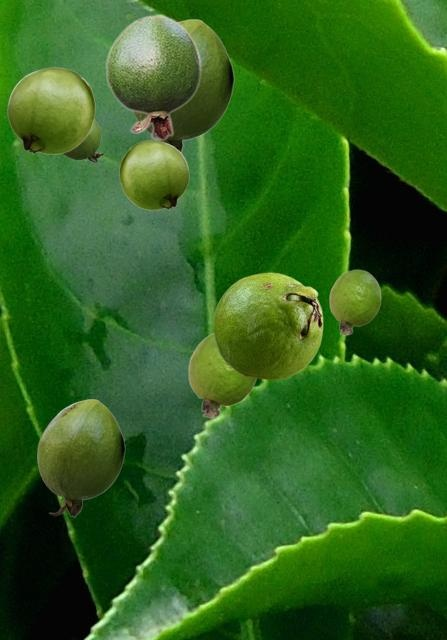guava: (132, 19, 233, 152), (105, 14, 201, 140), (213, 272, 322, 379), (37, 399, 124, 516), (7, 67, 94, 153), (188, 333, 257, 417), (119, 140, 188, 209), (329, 269, 380, 334), (62, 119, 103, 161)
